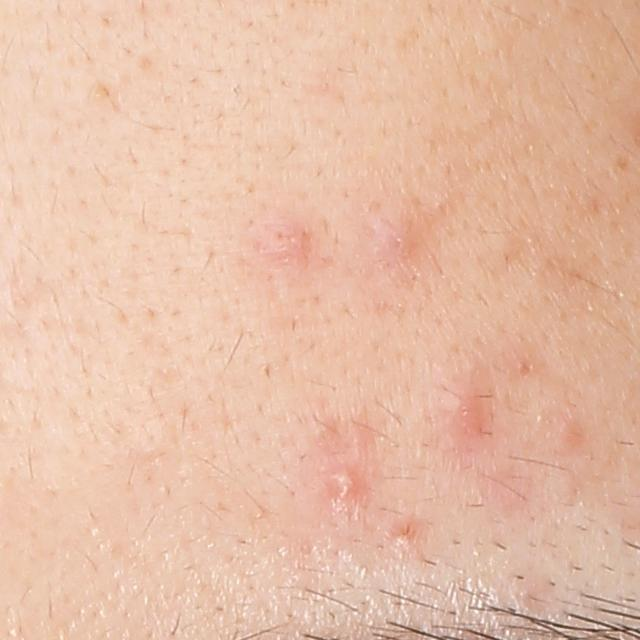papule: (235, 210, 299, 270), (371, 216, 425, 263), (441, 385, 485, 432)
pustule: (326, 467, 365, 499)
